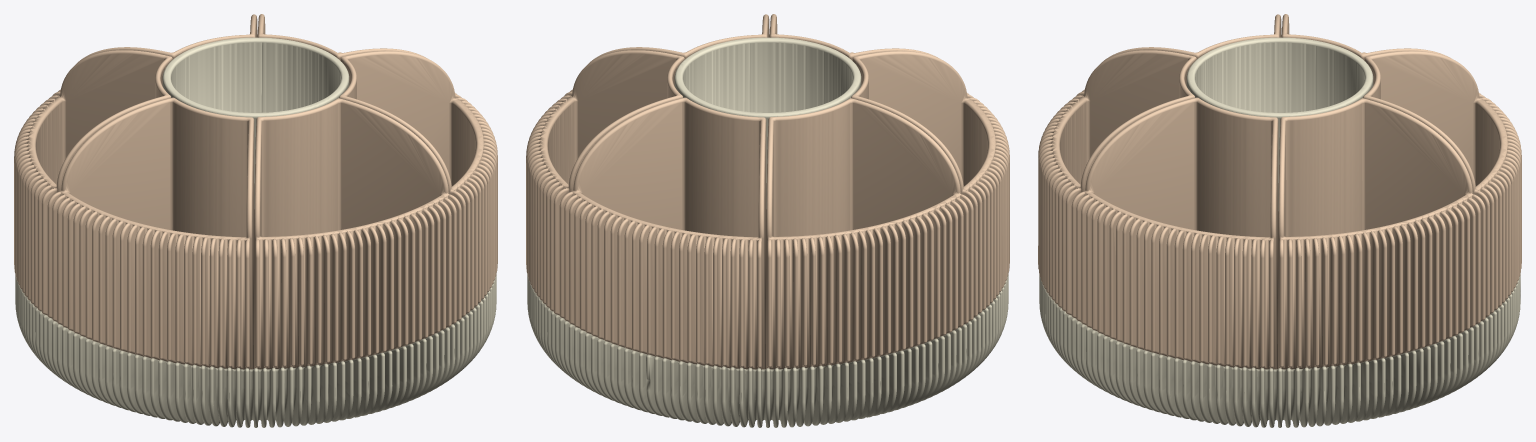
Rendered from masa-organizeri-dairesel.glb.
3 renders of one model, left to right at view 1: azimuth 30°, elevation 25°; view 2: azimuth 150°, elevation 25°; view 3: azimuth 270°, elevation 25°, orthographic.
Parts seen in each view (by area): view 1: Insert, Taban; view 2: Insert, Taban; view 3: Insert, Taban.
Boxes of the visible parts, x1=… form: Insert: x1=14, y1=14, x2=497, y2=369; Taban: x1=15, y1=37, x2=496, y2=427; Insert: x1=526, y1=14, x2=1009, y2=369; Taban: x1=527, y1=37, x2=1008, y2=427; Insert: x1=1038, y1=14, x2=1521, y2=369; Taban: x1=1039, y1=37, x2=1520, y2=427.
Bounding box in the file's own units: 0.171 × 0.102 × 0.1709.
